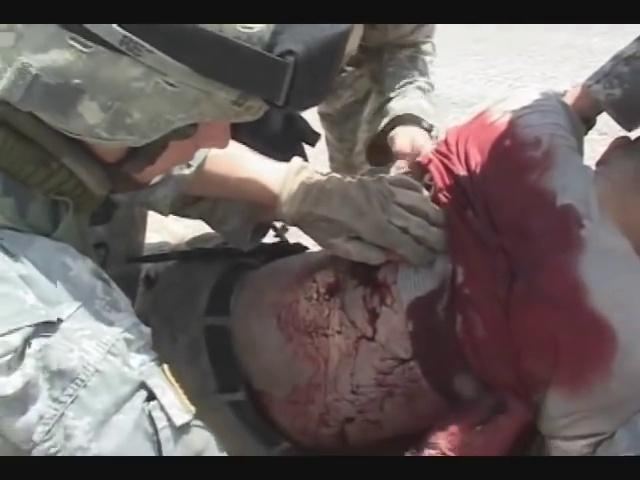Fire: (305, 113, 619, 456)
